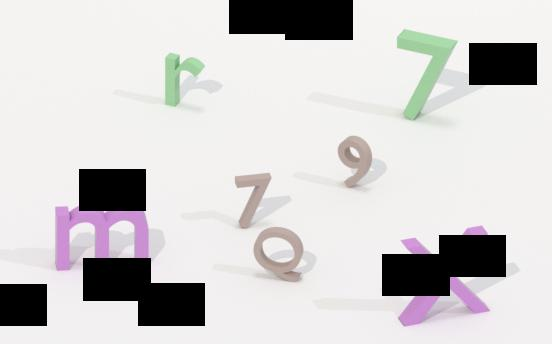7: (393, 24, 460, 122), (232, 167, 275, 230)
9: (337, 130, 374, 196)
R: (161, 49, 207, 113)
m: (53, 202, 153, 271)
q: (250, 222, 308, 283)
x: (397, 224, 496, 329)
